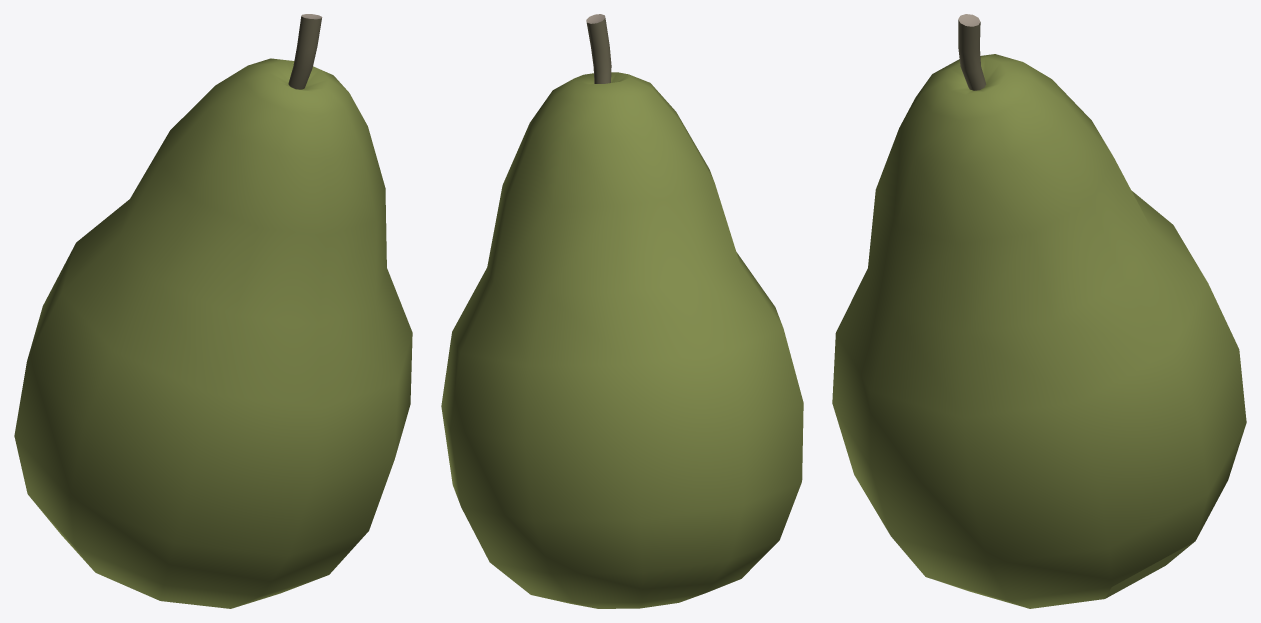
File: SM_Fruits_Avocado_1.fbx
3 renders of one model, left to right at view 1: azimuth 30°, elevation 25°; view 2: azimuth 150°, elevation 25°; view 3: azimuth 270°, elevation 25°, orthographic. The views are drawn at different scales.
Parts seen in each view (by area): view 1: SM_Fruits_Avocado_1; view 2: SM_Fruits_Avocado_1; view 3: SM_Fruits_Avocado_1.
Part boxes in pixels (<box>): SM_Fruits_Avocado_1: <box>14,14,412,608</box>; SM_Fruits_Avocado_1: <box>441,14,803,608</box>; SM_Fruits_Avocado_1: <box>832,14,1246,608</box>.
Bounding box in the file's own units: 17.69 × 29.07 × 18.38.
